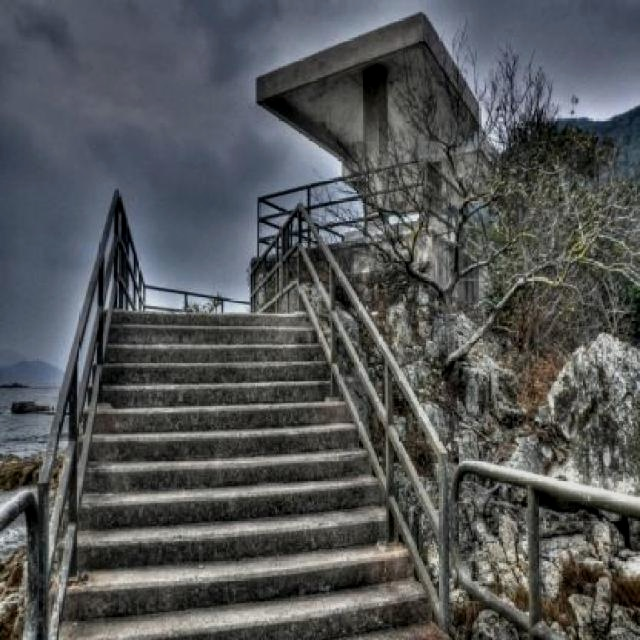stair: (48, 303, 457, 640)
